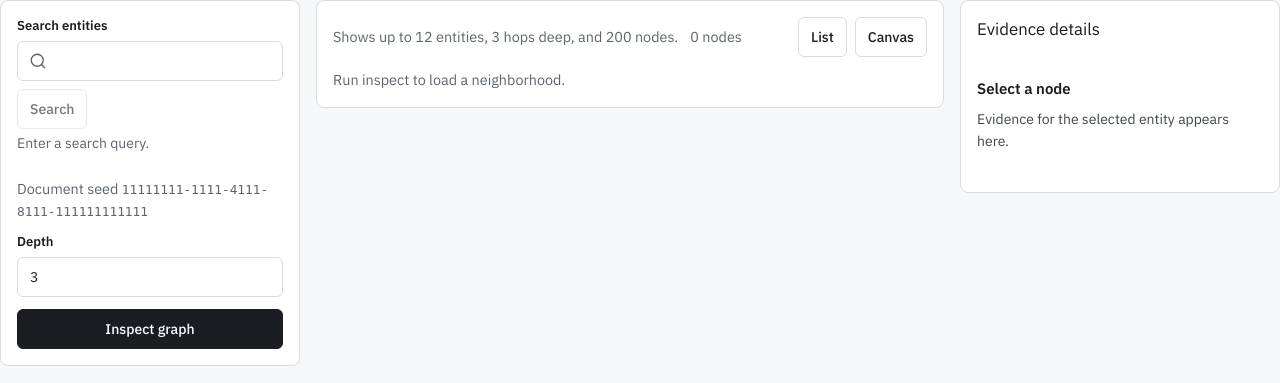
Test: GraphExplorer › inspects from a document seed without entity chips
Click the button "Inspect graph" at {"x": 150, "y": 329}, box [17, 309, 283, 349]
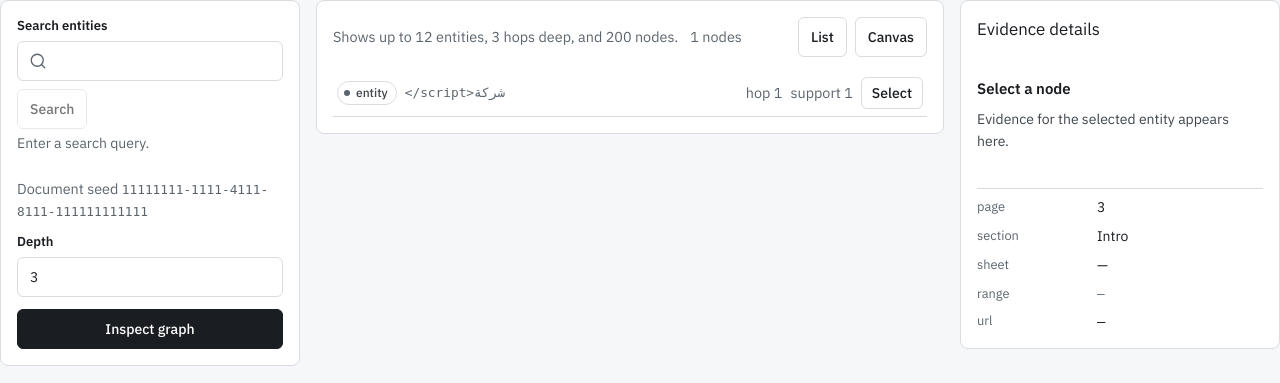
Now the text "hop 1" is shown, box [746, 82, 782, 103]
